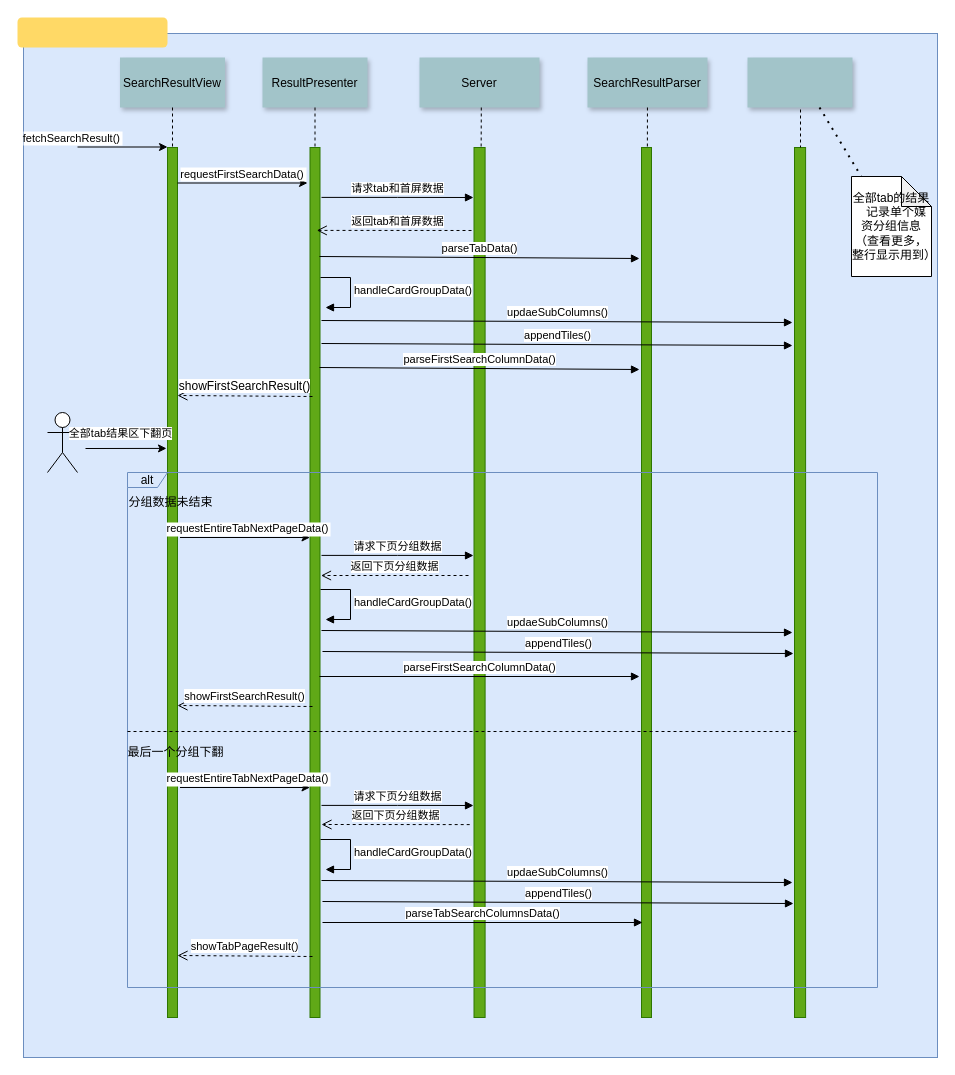
Image size: 955x1075. Some labels were removed from this diagram. Each missing label, with the centre of its shape:
"Actor" belongs at (62,442).
"CardGroupRecord" belongs at (800,83).
"搜索结果" belongs at (92,32).
